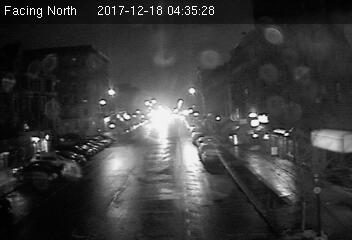car: (201, 149, 222, 165)
